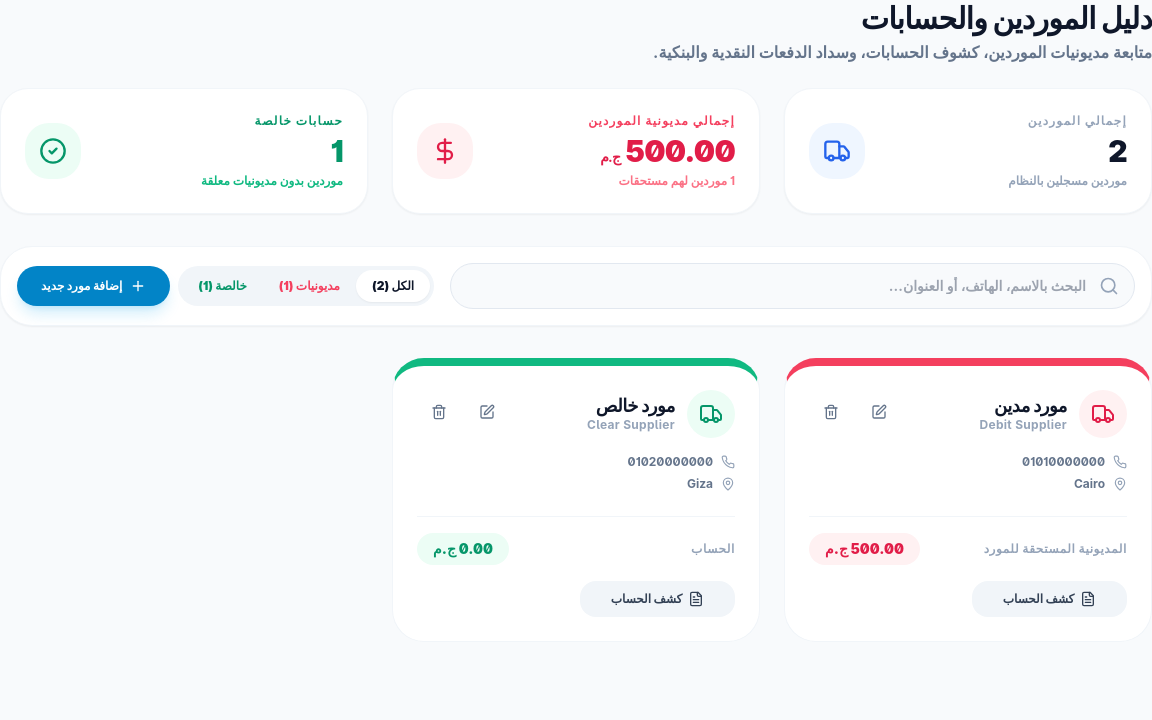
Scenario: coverage-gap: supplier management UI permissions and interactions › keeps the last valid supplier view after a committed create when the post-save refresh fails, and allows retry
Expected: the heading "مورد مدين" is shown, 994,395 -> 1067,416
Click the button "إضافة مورد جديد" at (94, 286), box 17,266 -> 170,306
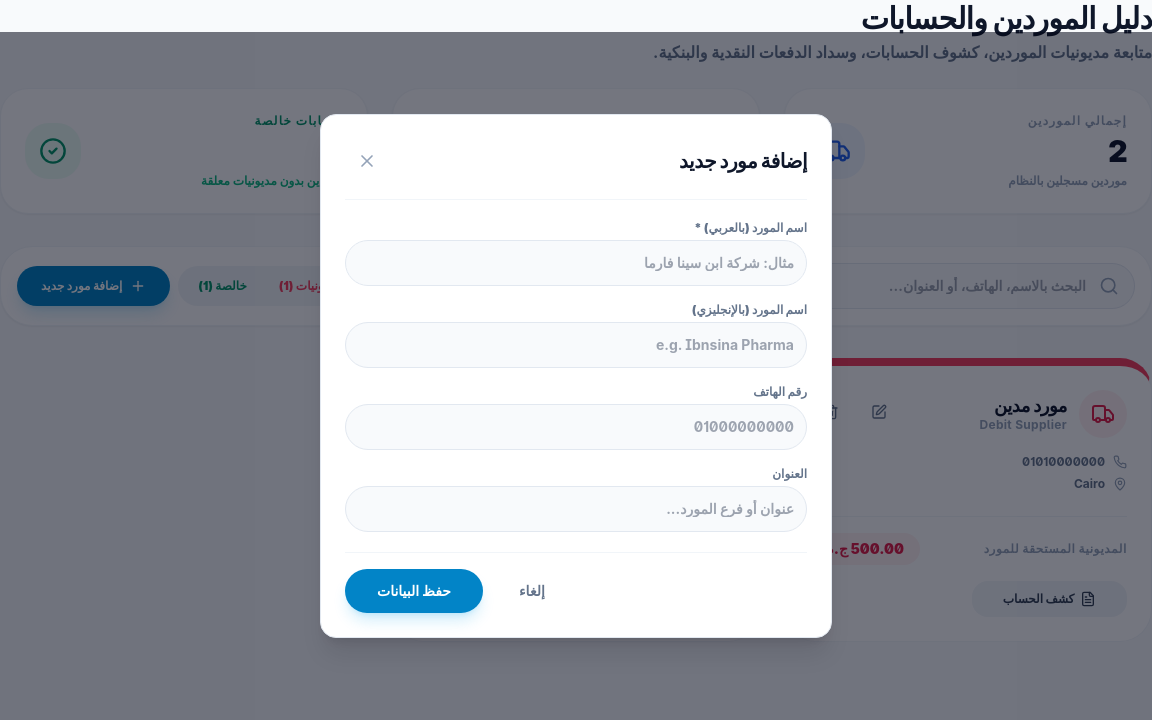
Type "مورد جديد" into the field with placeholder "مثال: شركة ابن سينا فارما" at (576, 263), box 345,240 -> 807,286
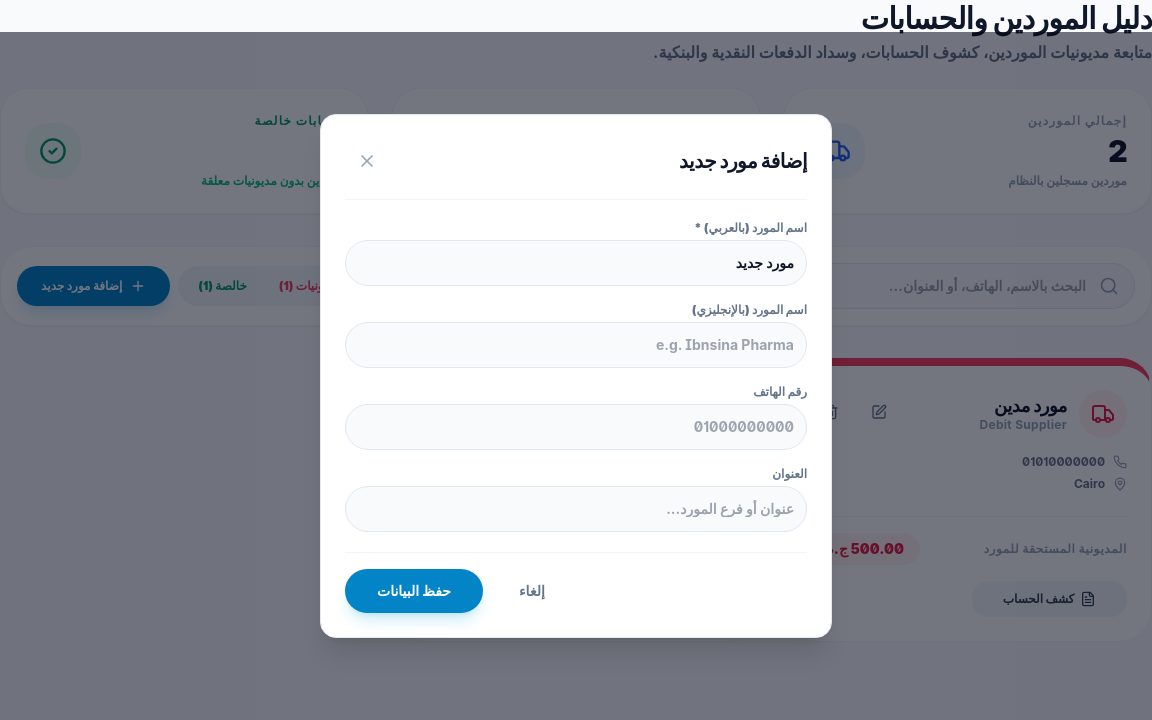
Click the button "حفظ البيانات" at (414, 591), box 345,569 -> 483,613
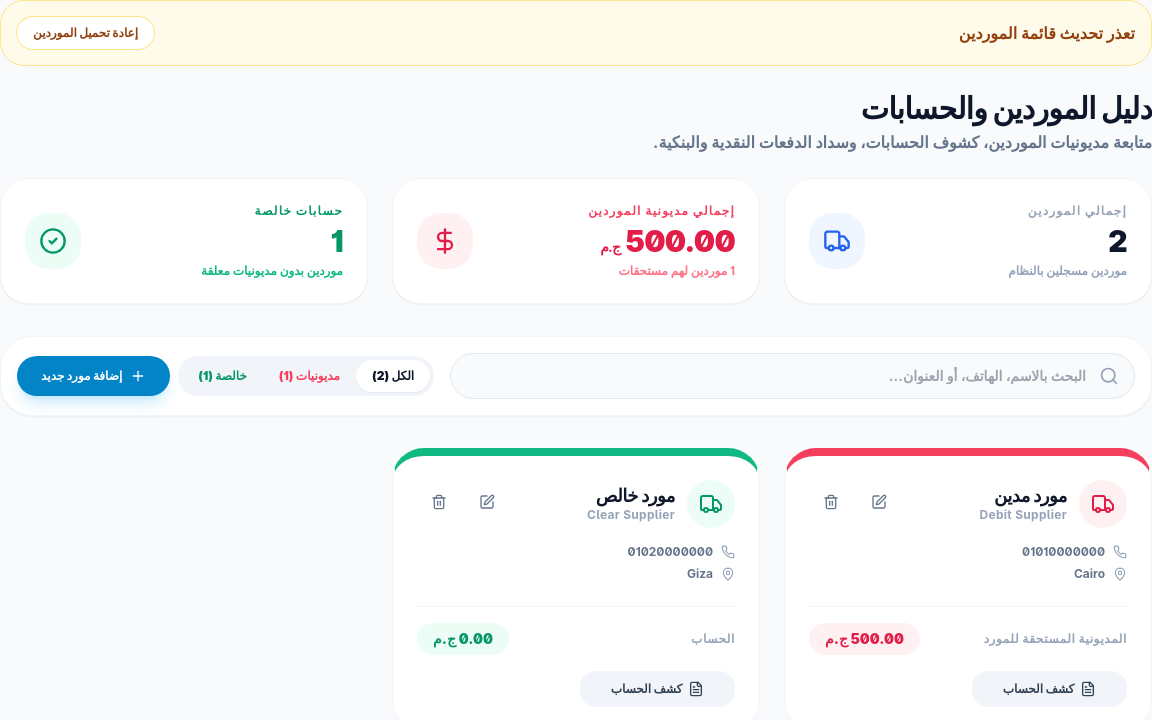
Expected: the heading "مورد مدين" is shown, 994,485 -> 1067,506
Now the text "تعذر تحديث قائمة الموردين" is shown, box 959,21 -> 1135,45
Now the button "إعادة تحميل الموردين" is shown
Click the button "إعادة تحميل الموردين" at (86, 33), box 17,17 -> 154,49
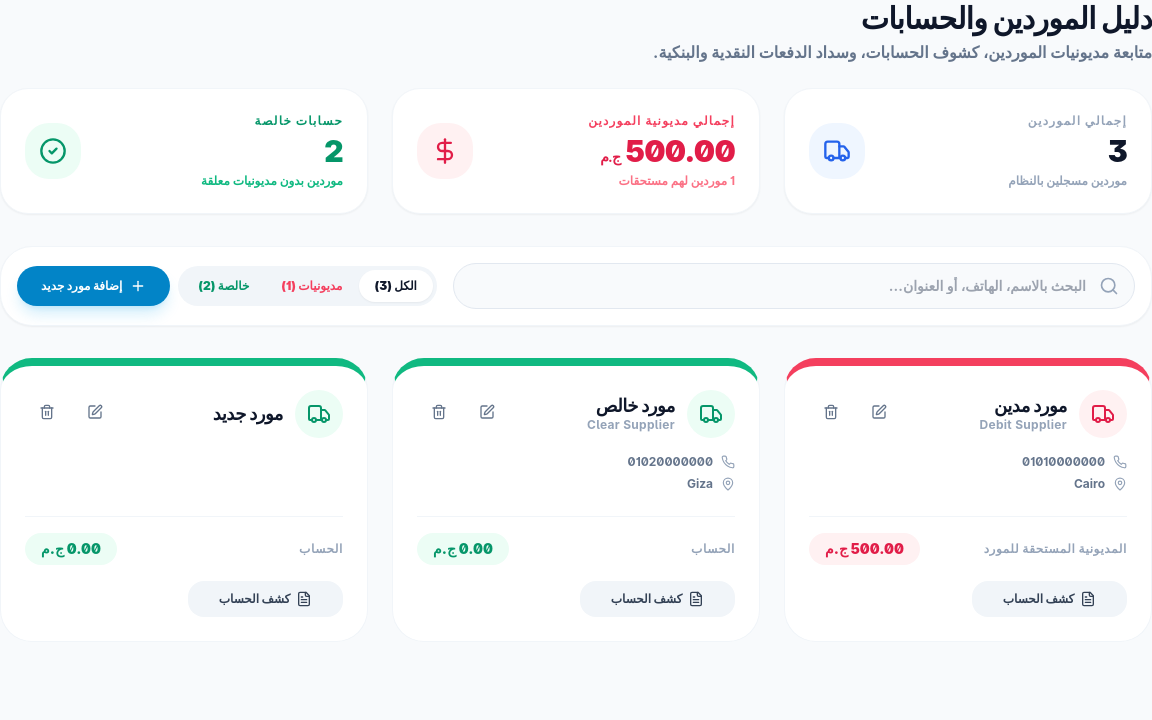
Now the heading "مورد جديد" is shown, box 213,403 -> 283,425
